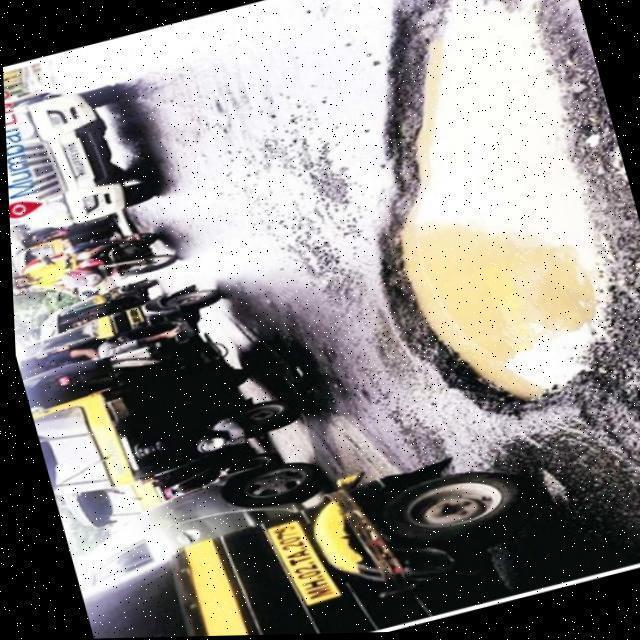Pothole: (359, 0, 638, 431)
